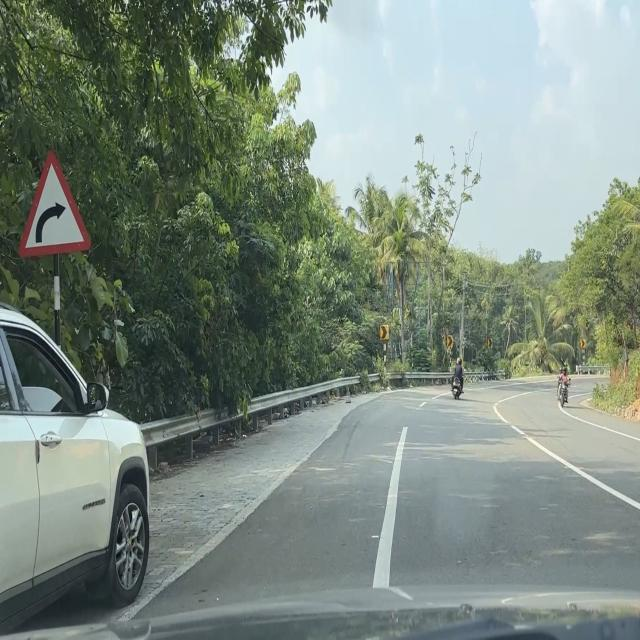RIGHT_TURN_AHEAD: (17, 147, 92, 260)
TURN_RIGHT: (380, 326, 388, 340), (447, 336, 453, 348), (488, 338, 492, 348)
